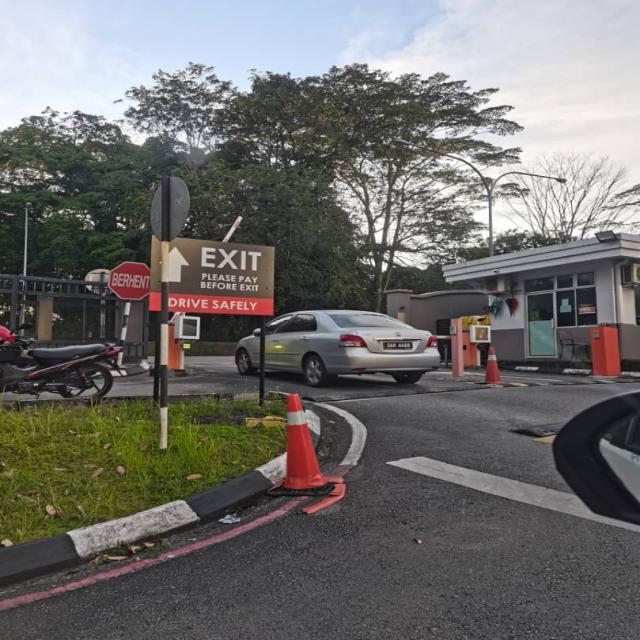ToyotaVios: (233, 308, 442, 387)
